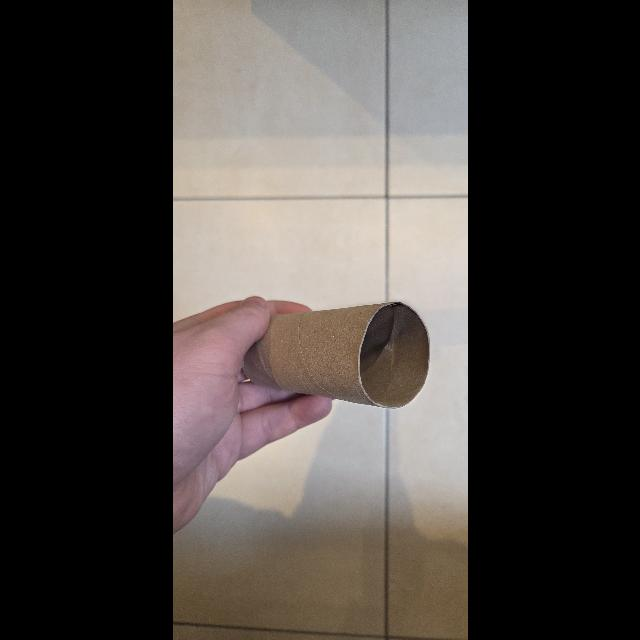Cardboard: (245, 304, 429, 411)
